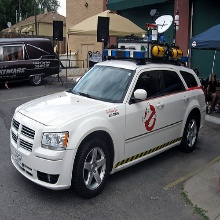no damage: (9, 59, 207, 197)
